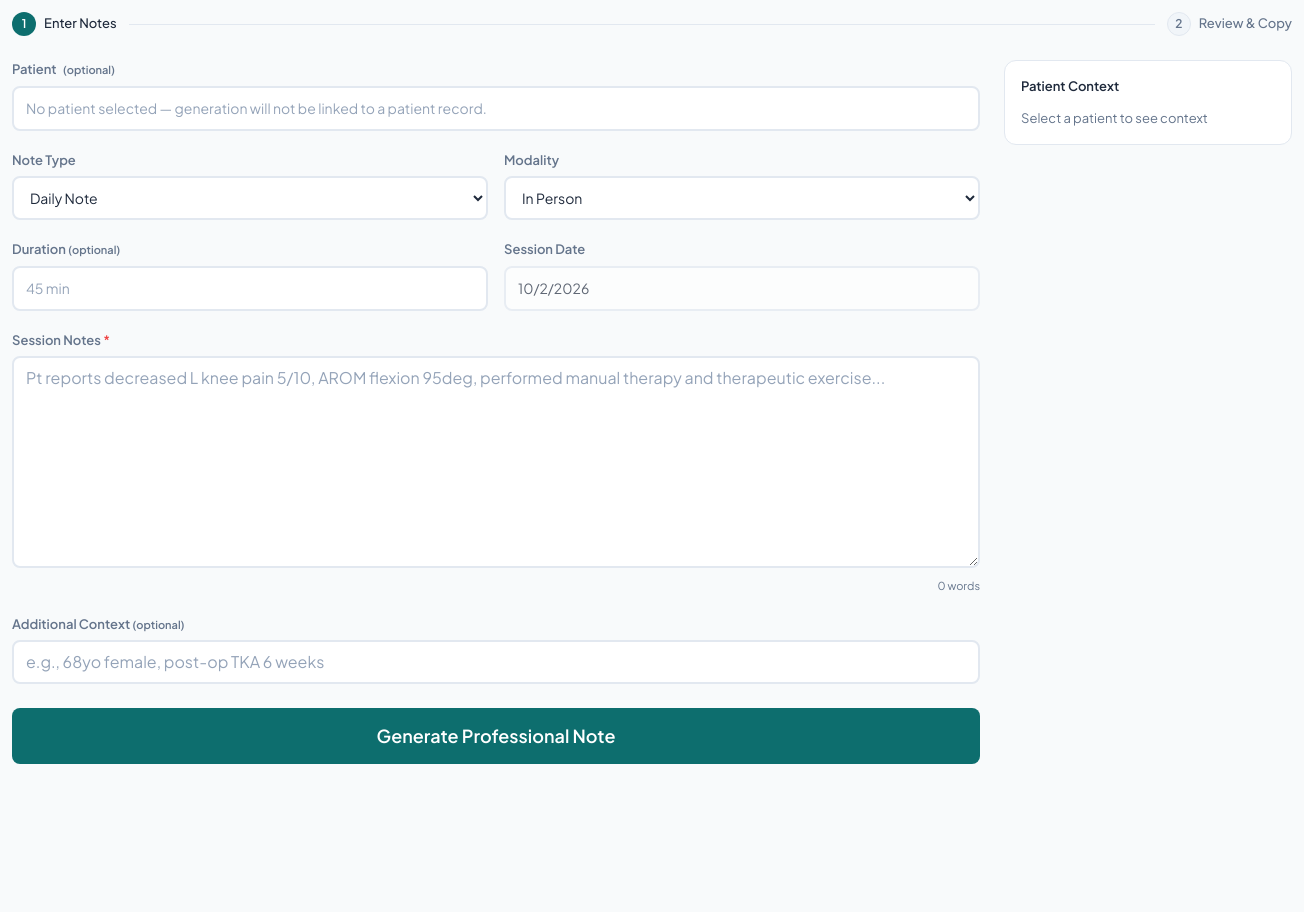
it: NoteGenerationForm › shows loading state (pending) during submission — button is disabled
The width and height of the screenshot is (1304, 912).
Type "Some notes" into the text box labelled "Session Notes *".
click(496, 462); type("Some notes")  # box left=12, top=356, right=980, bottom=568
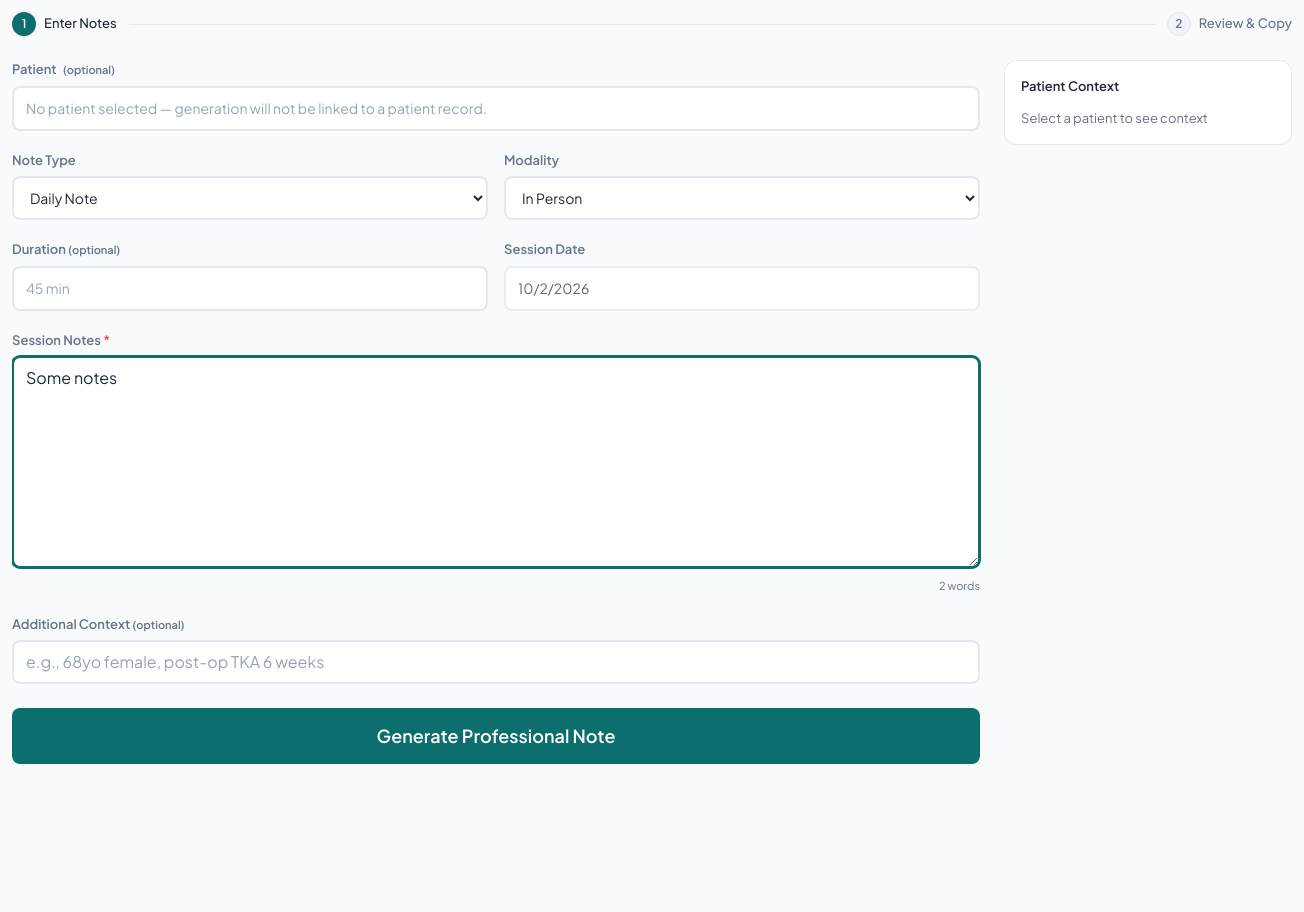
Click the button "Generate Professional Note".
click(496, 736)  # box left=12, top=708, right=980, bottom=764
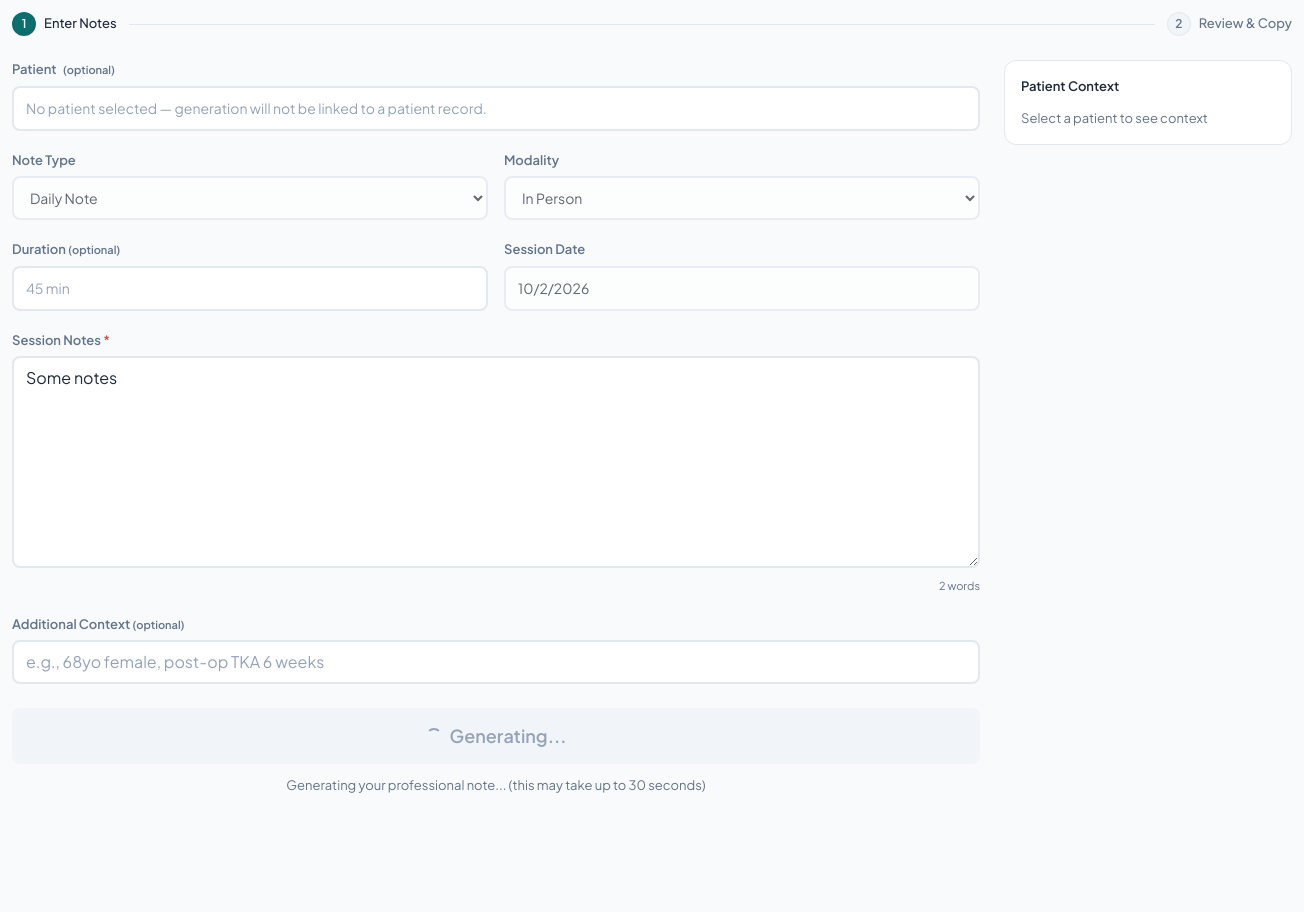
Check: the button "Generating..." is disabled, box left=12, top=708, right=980, bottom=764
Check: the text "this may take up to 30 seconds" is shown, box left=286, top=777, right=706, bottom=793
